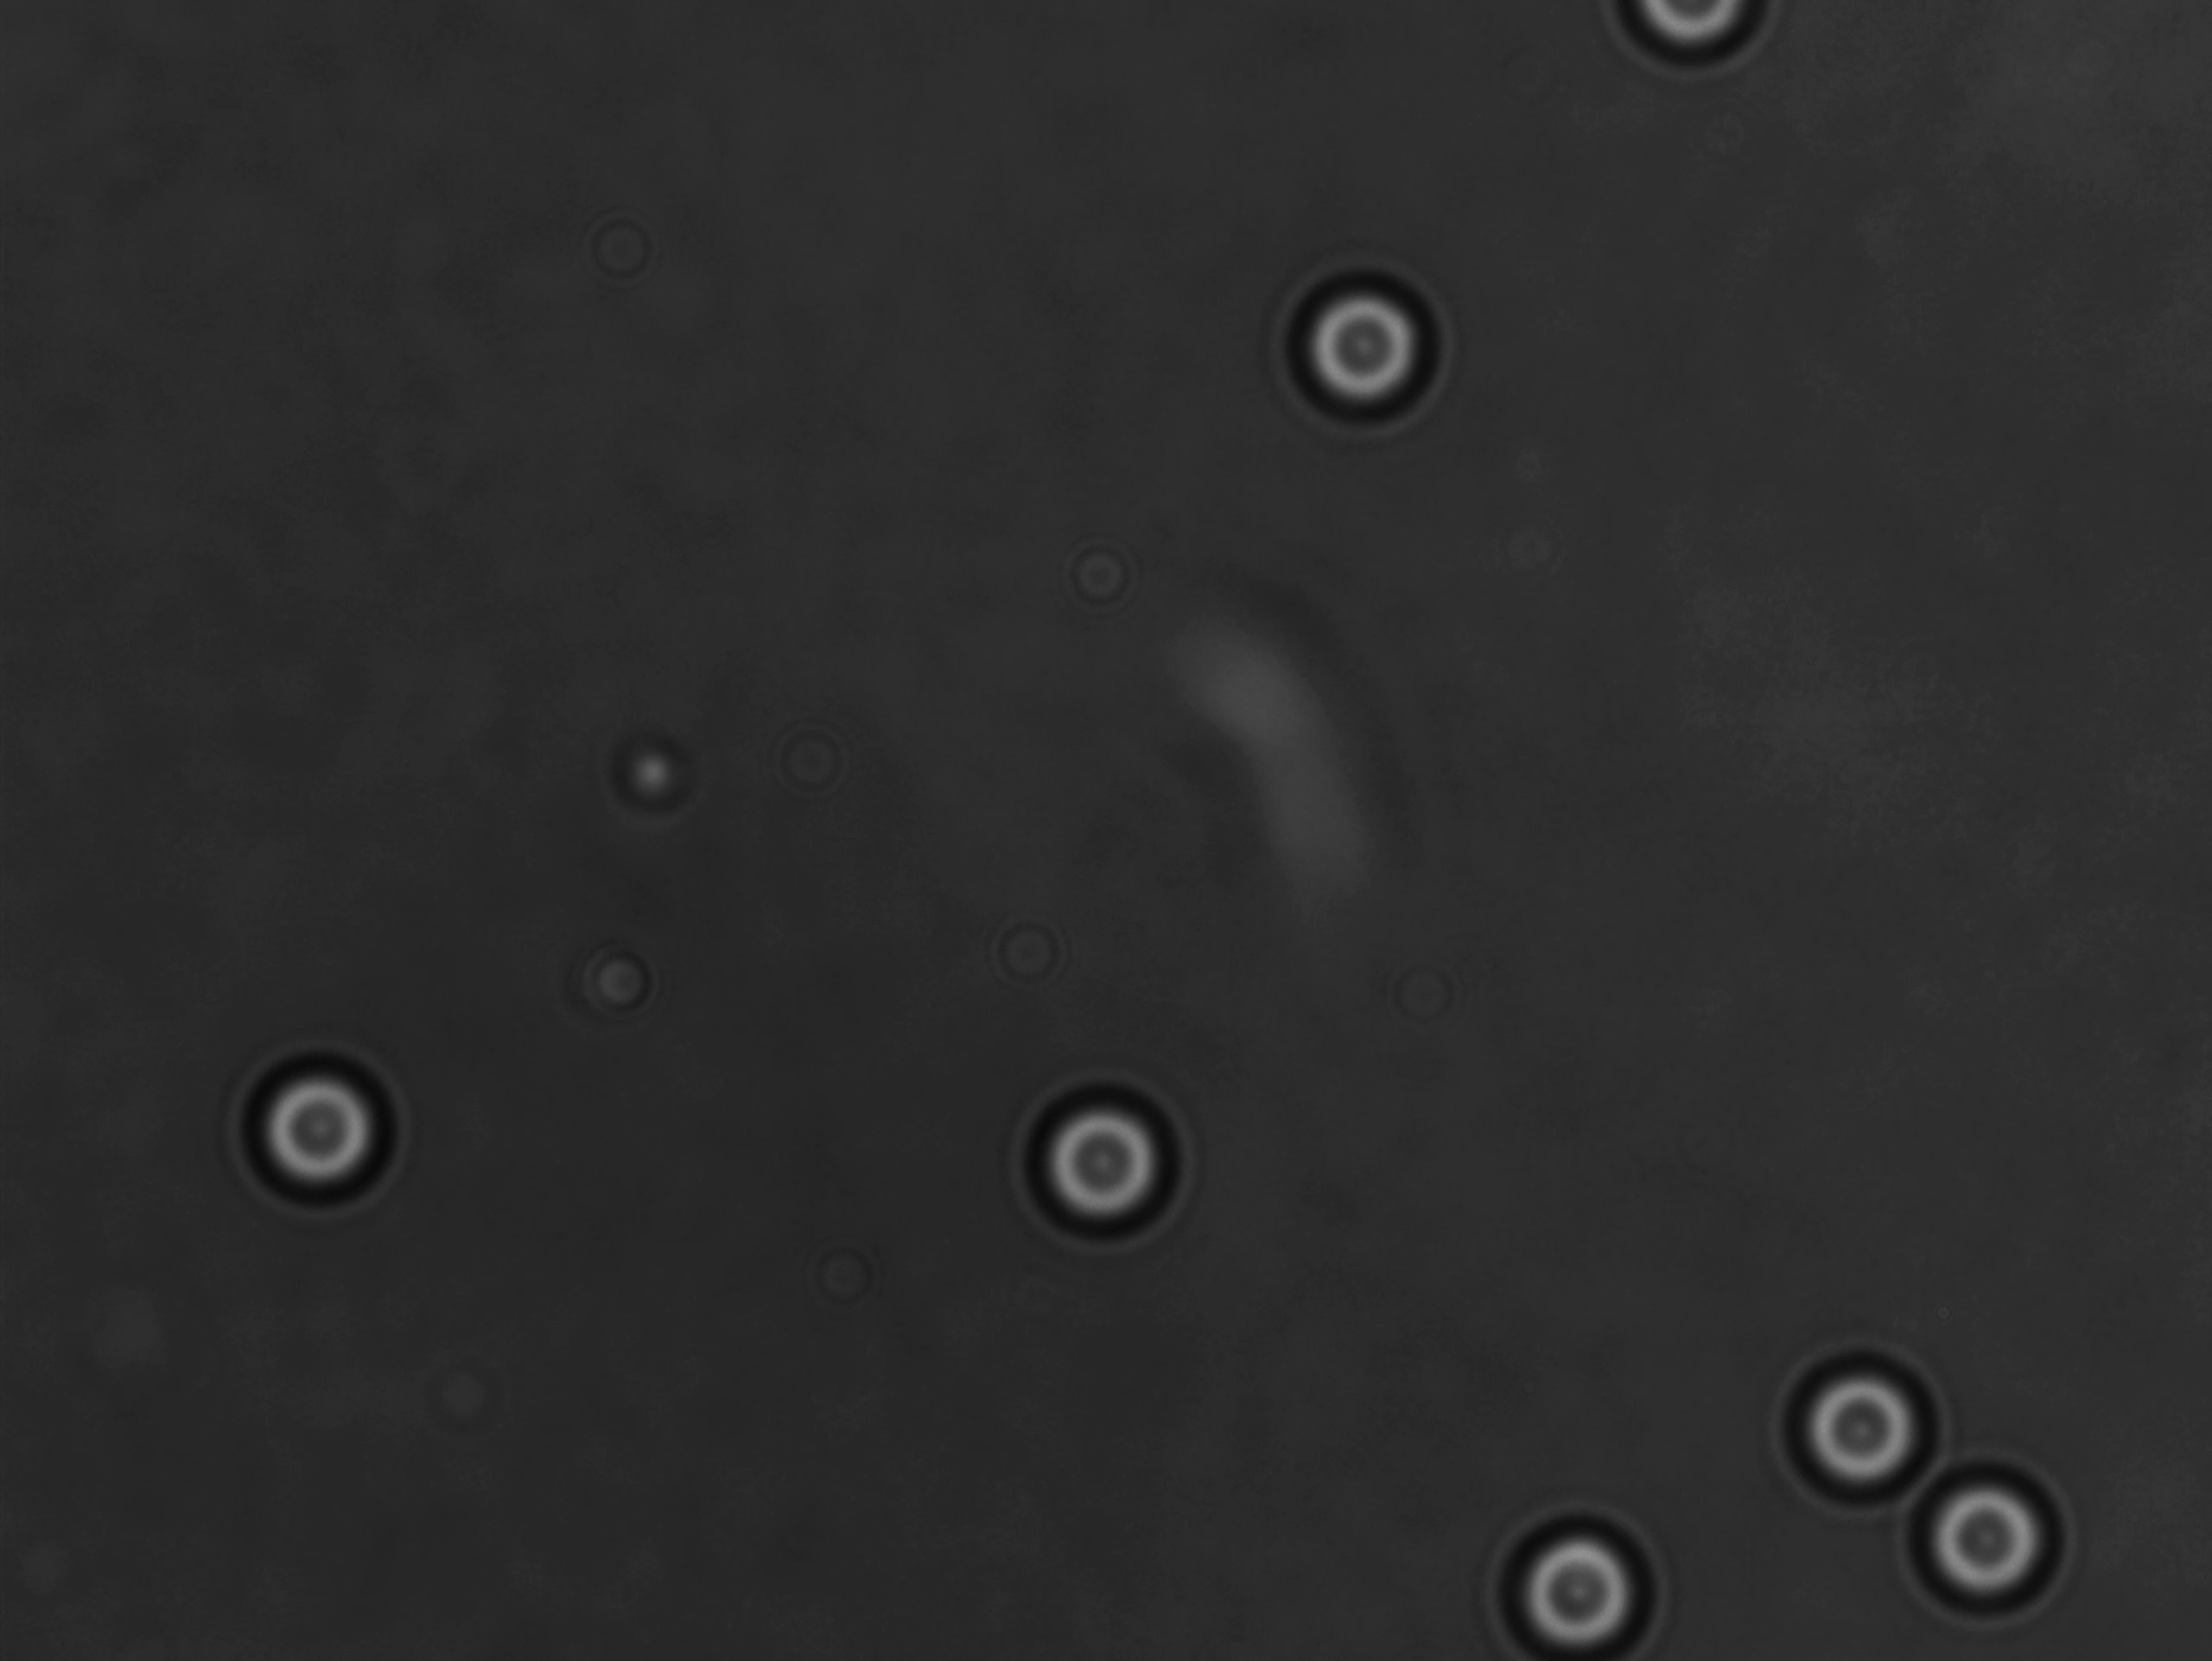depth:40: (1479, 1494, 1685, 1661), (1914, 1460, 2092, 1638), (1277, 269, 1462, 438), (1021, 1070, 1204, 1239), (232, 1043, 420, 1207), (1776, 1338, 1943, 1504)
